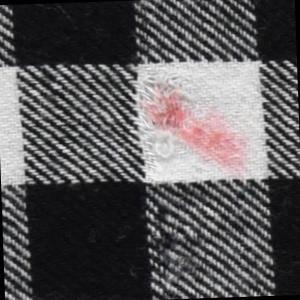Damage: (139, 73, 195, 177)
Stain: (142, 84, 257, 183)
